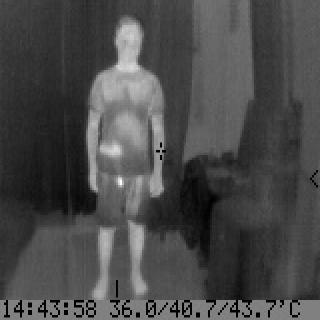Gun: (98, 140, 126, 188)
